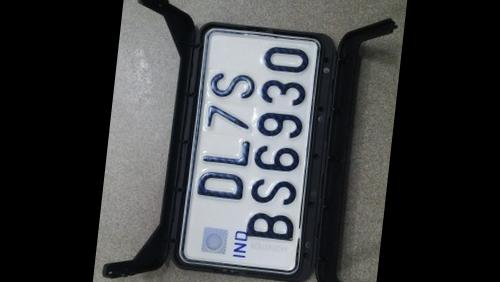plate: (170, 23, 322, 268)
